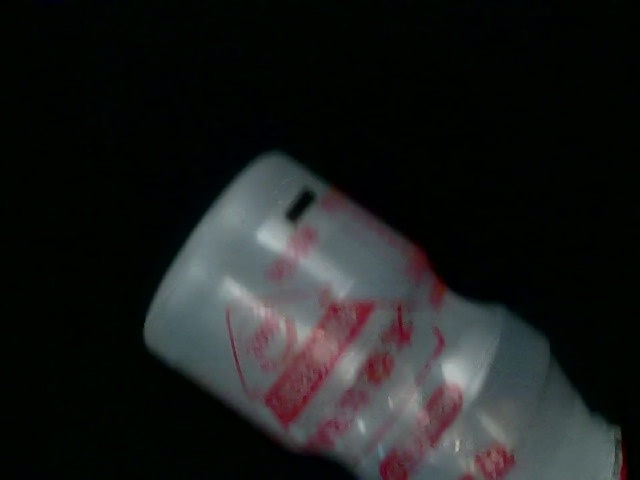CYLJ: (427, 1, 534, 90)
